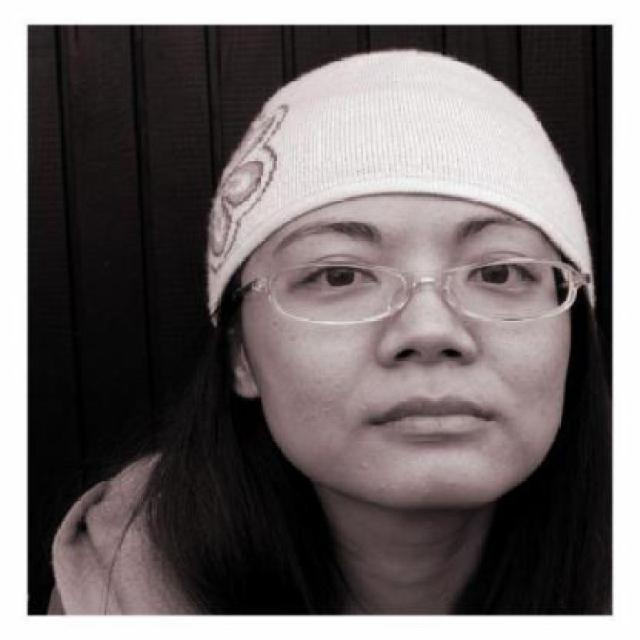awake: (305, 258, 372, 290), (470, 254, 528, 288)
